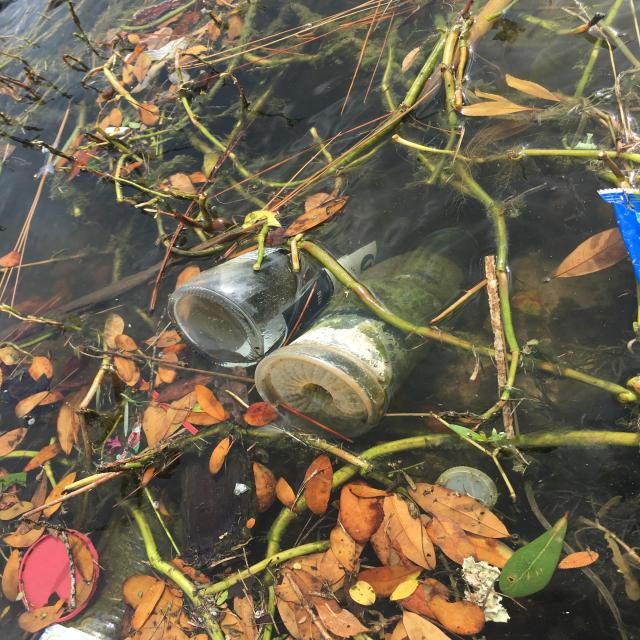litter: (333, 130, 588, 290), (281, 192, 488, 354), (251, 0, 377, 32)
